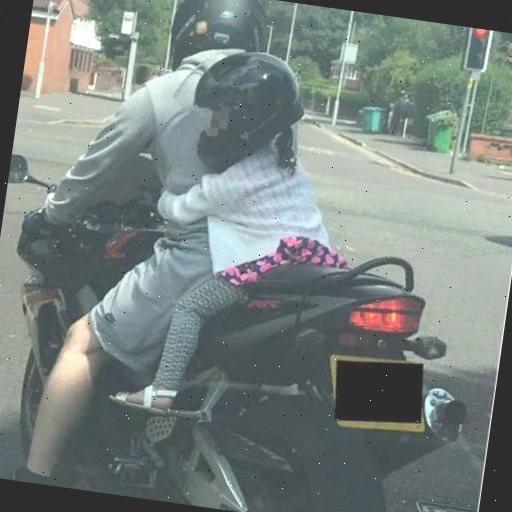helmet: (64, 0, 237, 450)
